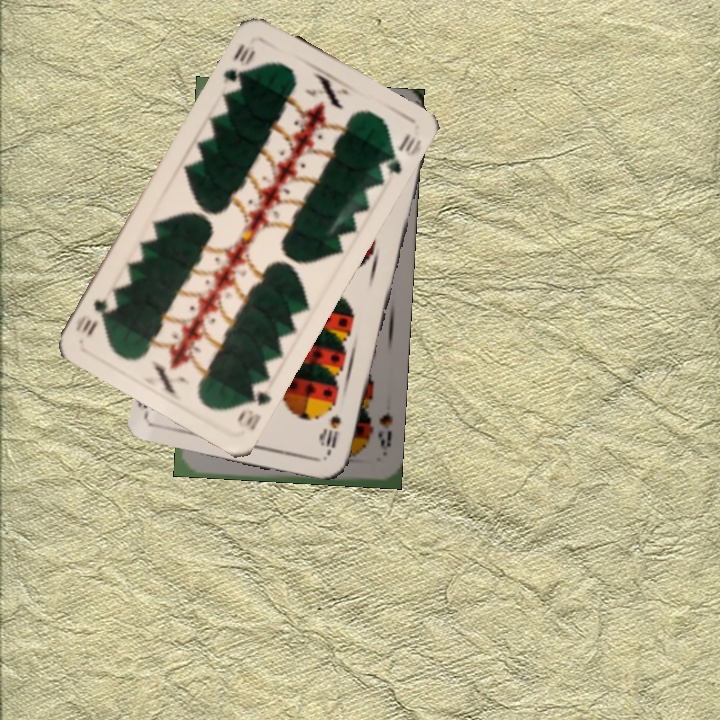G10: (233, 377, 275, 434), (218, 39, 258, 94)
S10: (318, 410, 344, 458)
S8: (374, 408, 395, 459)
